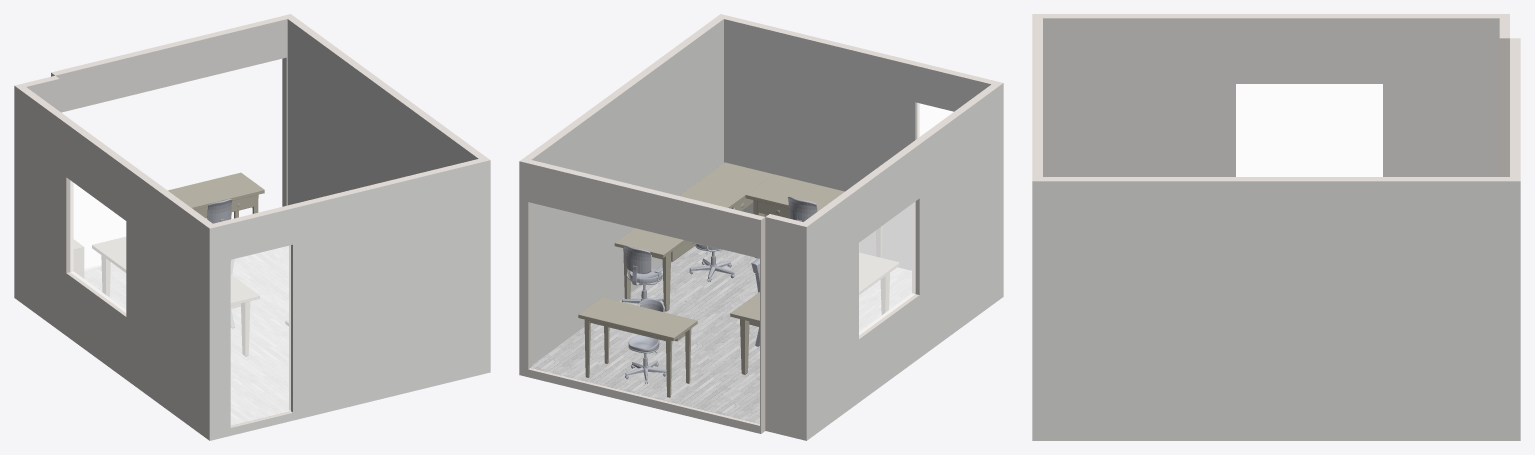
3 views of the same model, side by side, from view 1: azimuth 30°, elevation 25°; view 2: azimuth 150°, elevation 25°; view 3: azimuth 270°, elevation 25° (orthographic). The views are drawn at different scales.
Parts seen in each view (by area): view 1: wall_4, wall_1, wall_5, door_0, door_2, floor_Dining_Room, wall_11, window_0, window_2, wall_8, table_other_rect3, wall_14 (+5 smaller); view 2: wall_1, wall_13, wall_5, floor_Dining_Room, wall_3, wall_2, window_0, window_2, table_other_rect0, table_other_rect3, wall_12, wall_8 (+11 smaller); view 3: wall_0, wall_7, window_0, window_2, wall_6, wall_8, wall_14, wall_10, wall_12, joint_4.
Boxes of the visible parts, bbox=[...] form: wall_4: bbox=[209, 160, 490, 440]; wall_1: bbox=[14, 86, 209, 440]; wall_5: bbox=[287, 19, 478, 205]; door_0: bbox=[231, 245, 290, 425]; door_2: bbox=[231, 245, 290, 425]; floor_Dining_Room: bbox=[84, 246, 289, 425]; wall_11: bbox=[56, 19, 287, 205]; window_0: bbox=[70, 181, 125, 312]; window_2: bbox=[70, 181, 125, 312]; wall_8: bbox=[15, 85, 212, 316]; table_other_rect3: bbox=[168, 172, 264, 218]; wall_14: bbox=[210, 159, 489, 427]; wall_1: bbox=[806, 83, 1003, 440]; wall_13: bbox=[724, 19, 990, 270]; wall_5: bbox=[531, 19, 723, 364]; floor_Dining_Room: bbox=[530, 246, 911, 423]; wall_3: bbox=[519, 161, 760, 433]; wall_2: bbox=[765, 217, 806, 440]; window_0: bbox=[859, 202, 915, 334]; window_2: bbox=[859, 202, 915, 334]; table_other_rect0: bbox=[614, 162, 773, 311]; table_other_rect3: bbox=[578, 297, 697, 397]; wall_12: bbox=[520, 160, 765, 433]; wall_8: bbox=[803, 83, 1002, 338]; wall_0: bbox=[1032, 181, 1520, 440]; wall_7: bbox=[1043, 18, 1499, 176]; window_0: bbox=[1236, 84, 1382, 176]; window_2: bbox=[1236, 84, 1382, 176]; wall_6: bbox=[1033, 177, 1519, 181]; wall_8: bbox=[1033, 14, 1509, 18]; wall_14: bbox=[1032, 14, 1042, 181]; wall_10: bbox=[1499, 14, 1509, 176]; wall_12: bbox=[1510, 38, 1520, 181]; joint_4: bbox=[1499, 38, 1509, 176].
Bounding box in the file's own units: 3.76 × 2.72 × 4.63.
Materials: 24 (1 with a texture image).
